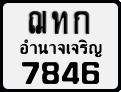letters: (26, 9, 47, 34), (81, 60, 101, 85), (72, 10, 91, 35), (51, 9, 69, 35), (41, 61, 60, 85), (21, 61, 40, 84), (61, 61, 80, 84)
province: (17, 37, 104, 58)
